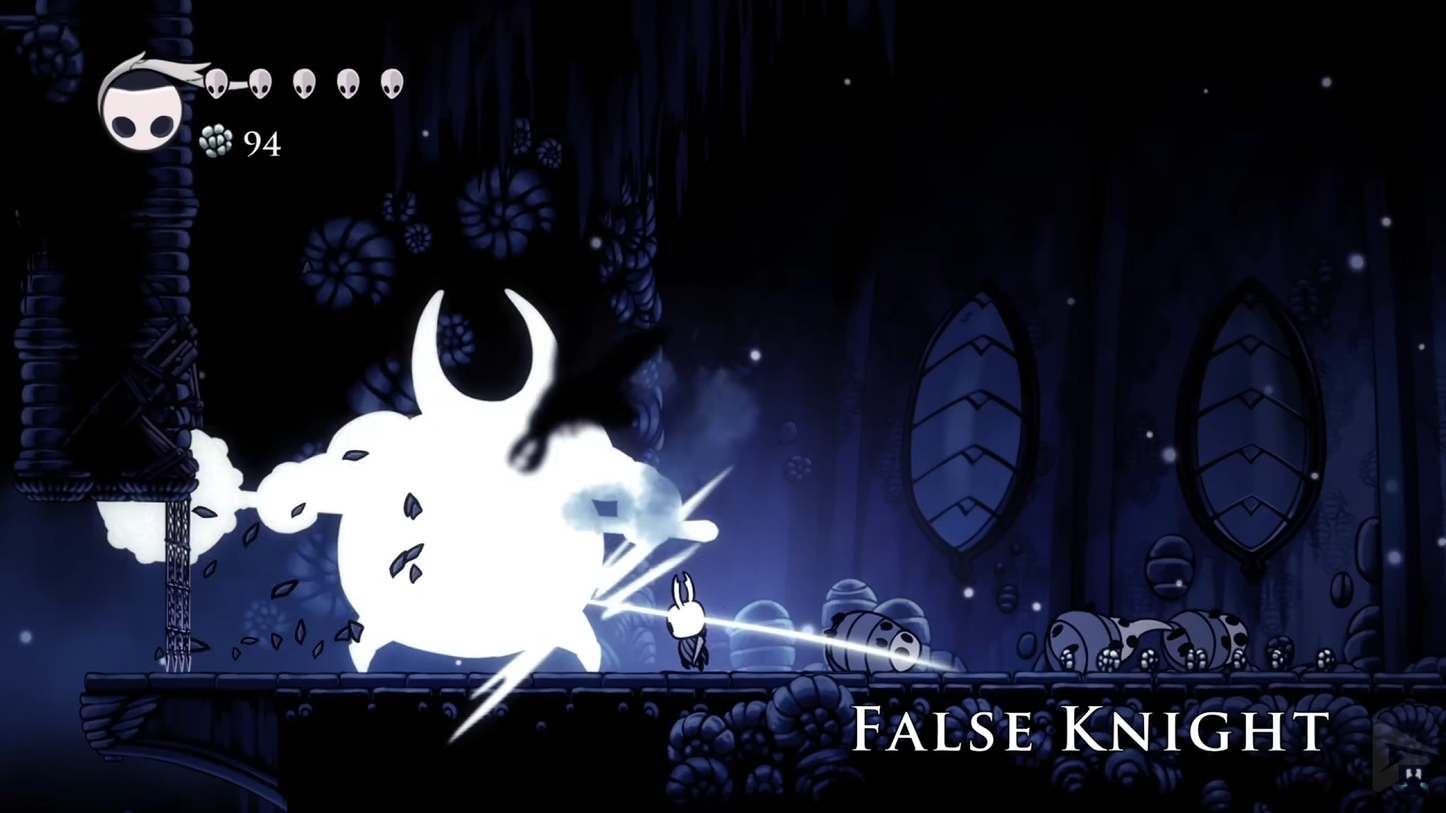HK: (661, 572, 715, 676)
